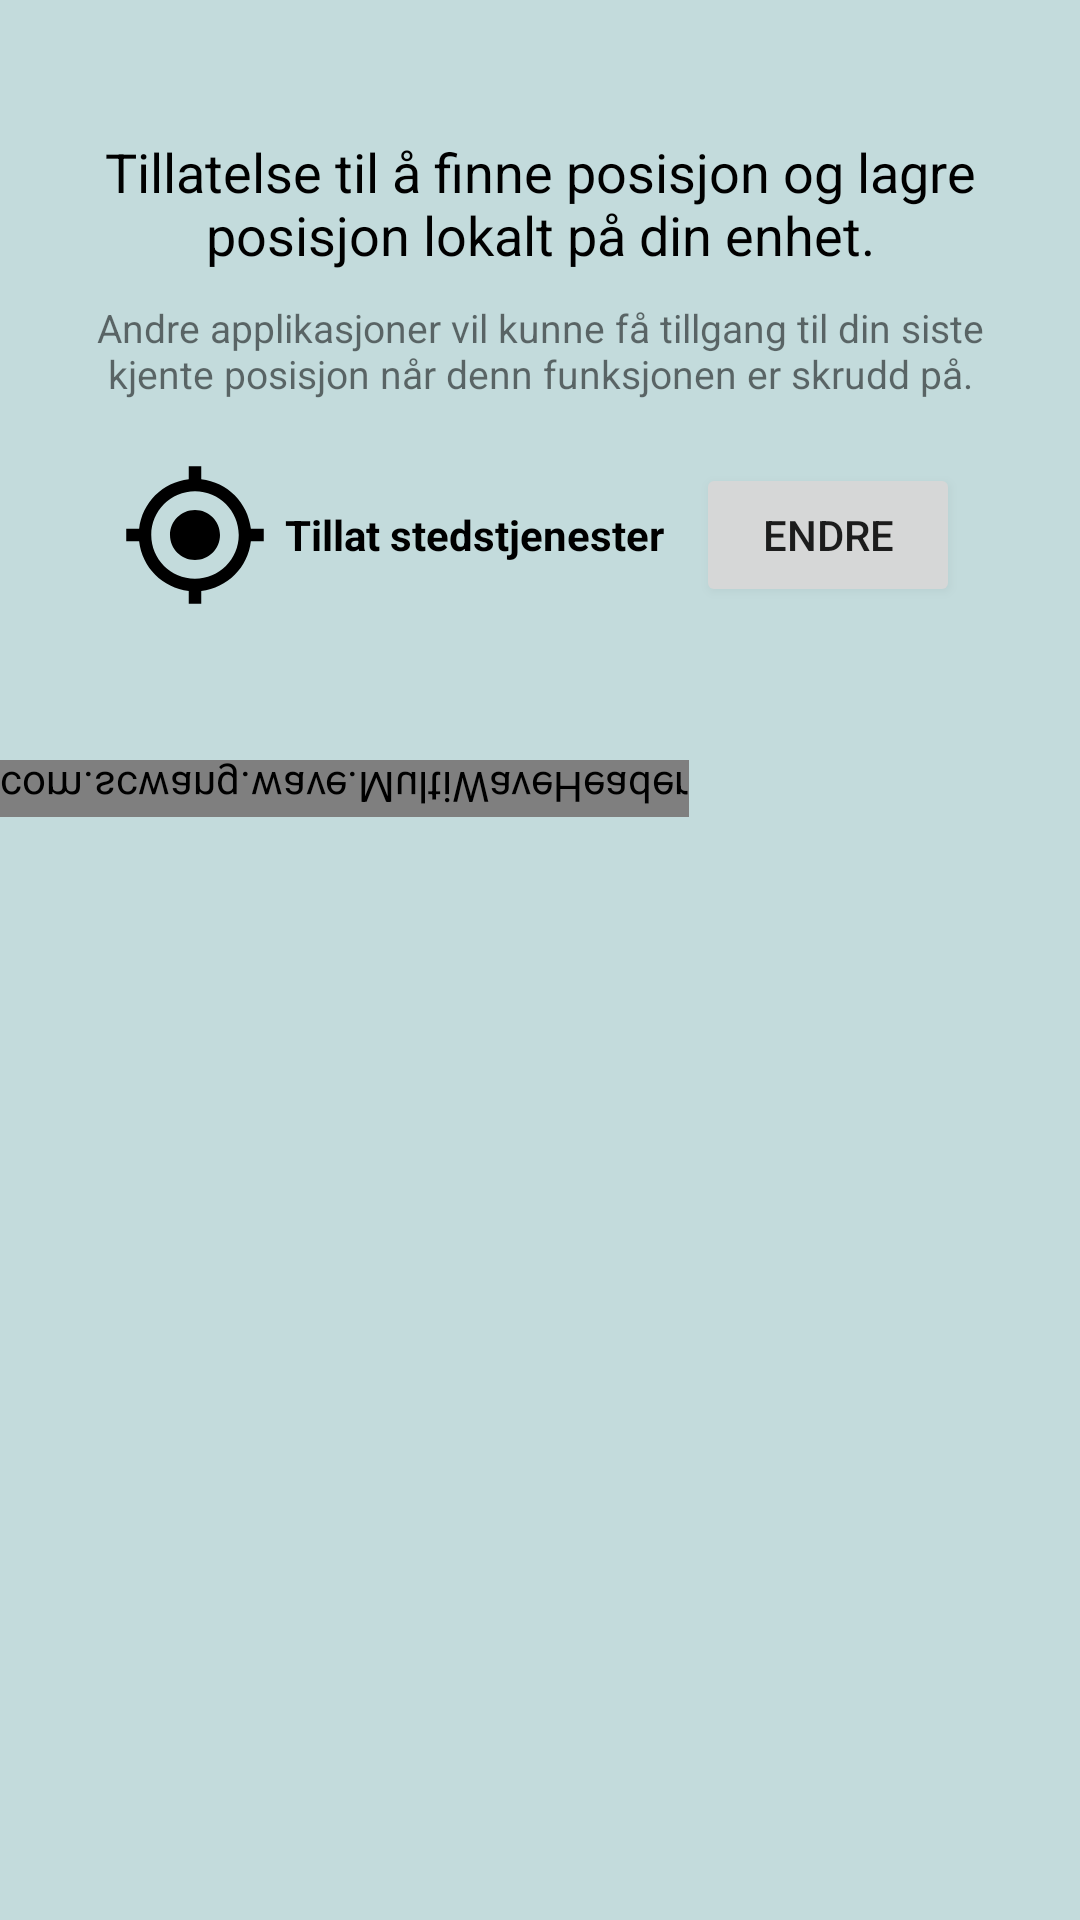

Icon click points for this 1080x1920 phone screenshot, format point (x, y):
location: point (195, 535)
